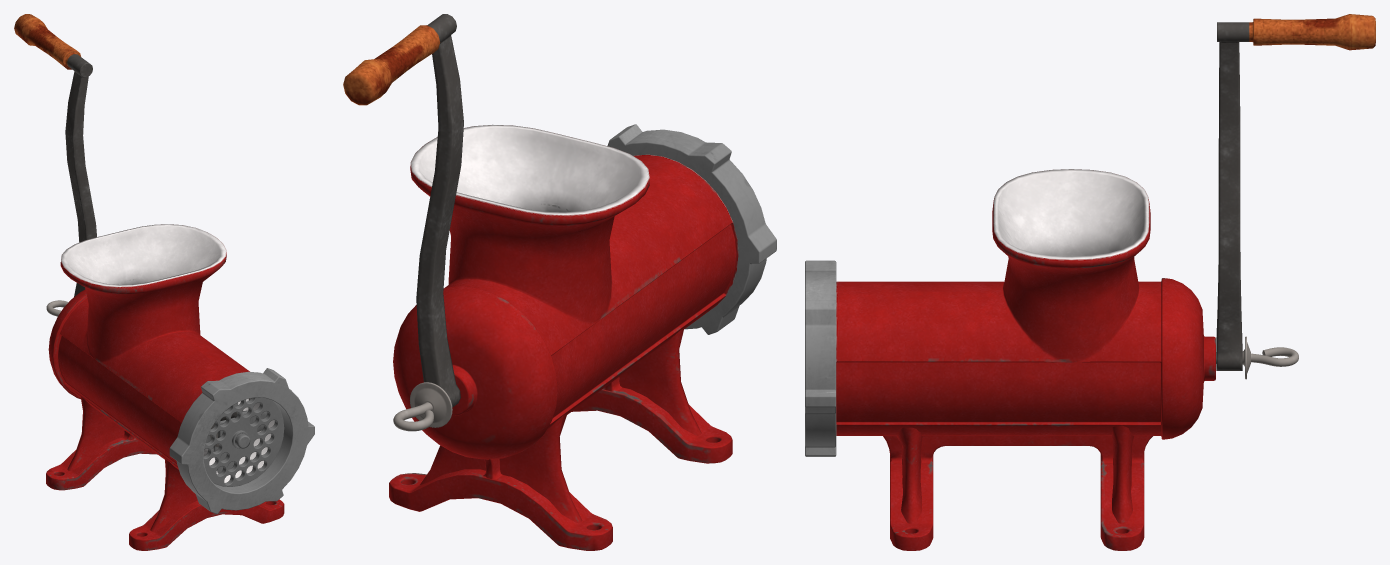
File: meat_grinder.glb
3 views of the same model, side by side, from view 1: azimuth 30°, elevation 25°; view 2: azimuth 150°, elevation 25°; view 3: azimuth 270°, elevation 25° (orthographic). The views are drawn at different scales.
Parts seen in each view (by area): view 1: Meat Grinder; view 2: Meat Grinder; view 3: Meat Grinder.
Boxes of the visible parts, box(x1,y1,x2,y2) form: Meat Grinder: box(14, 14, 314, 550); Meat Grinder: box(343, 14, 776, 550); Meat Grinder: box(805, 14, 1375, 550).
Bounding box in the file's own units: 10.39 × 25.51 × 26.96.
1 material, 1 textured.
